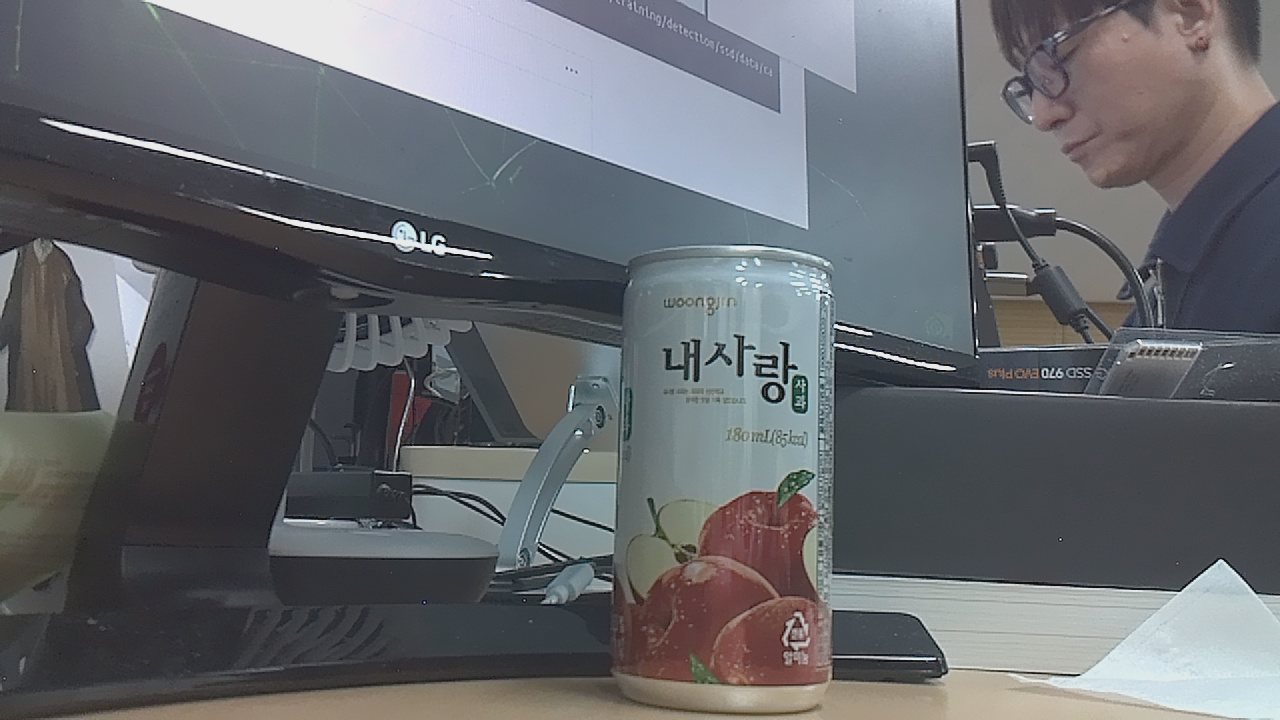mylove apple: (608, 241, 858, 720)
